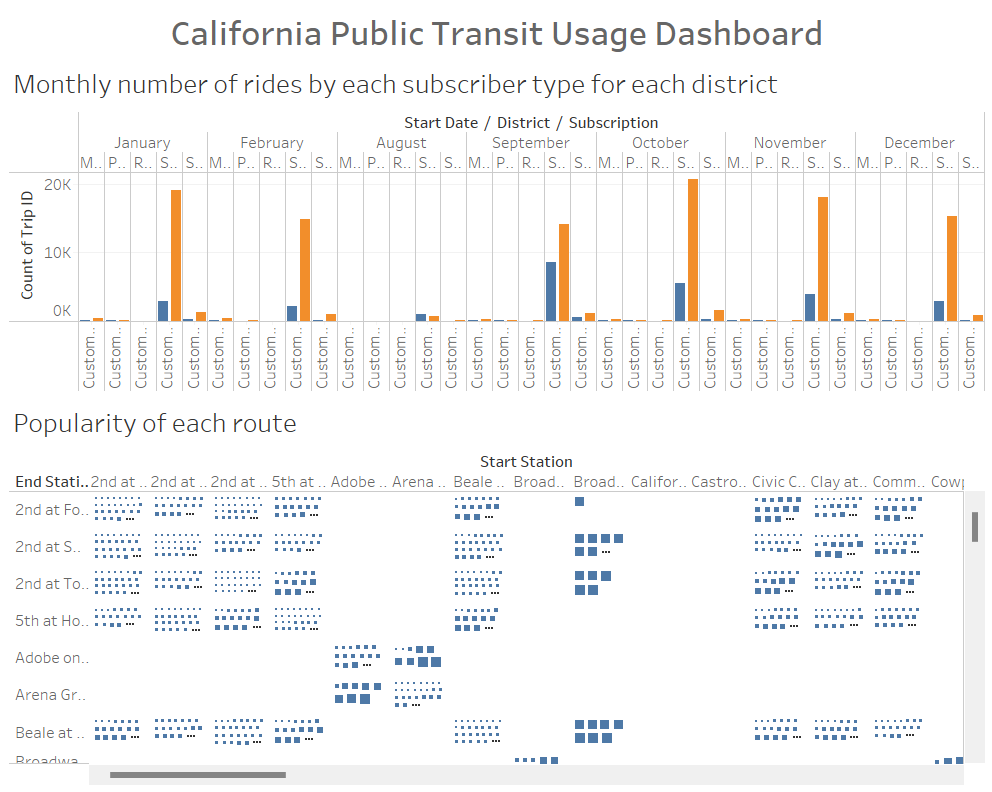

The dashboard page shown, as its layout file describes it:
{"tool":"tableau","page":{"name":"California Public Transit w (2)","canvas":[1000,800],"ordinal":1},"visuals":[{"type":"title","box":[8,8,984,53]},{"type":"worksheet","title":"Monthly number of rides by each subscriber type for each district","mark":"Automatic","rows":["Trip ID"],"cols":["Start Date","district","Subscription"],"box":[8,61,984,339]},{"type":"worksheet","title":"Popularity of each route","mark":"Automatic","rows":["End Station"],"cols":["Start Station"],"box":[8,400,984,392]}]}

Visuals, with their boxes in screenshot pixels (x1, y1, x2, y2), scaled from the page's 1000x800 canvas onto the 992x792 screenshot:
title: locate(8, 8, 984, 60)
"Monthly number of rides by each subscriber type for each district" worksheet: locate(8, 60, 984, 396)
"Popularity of each route" worksheet: locate(8, 396, 984, 784)
